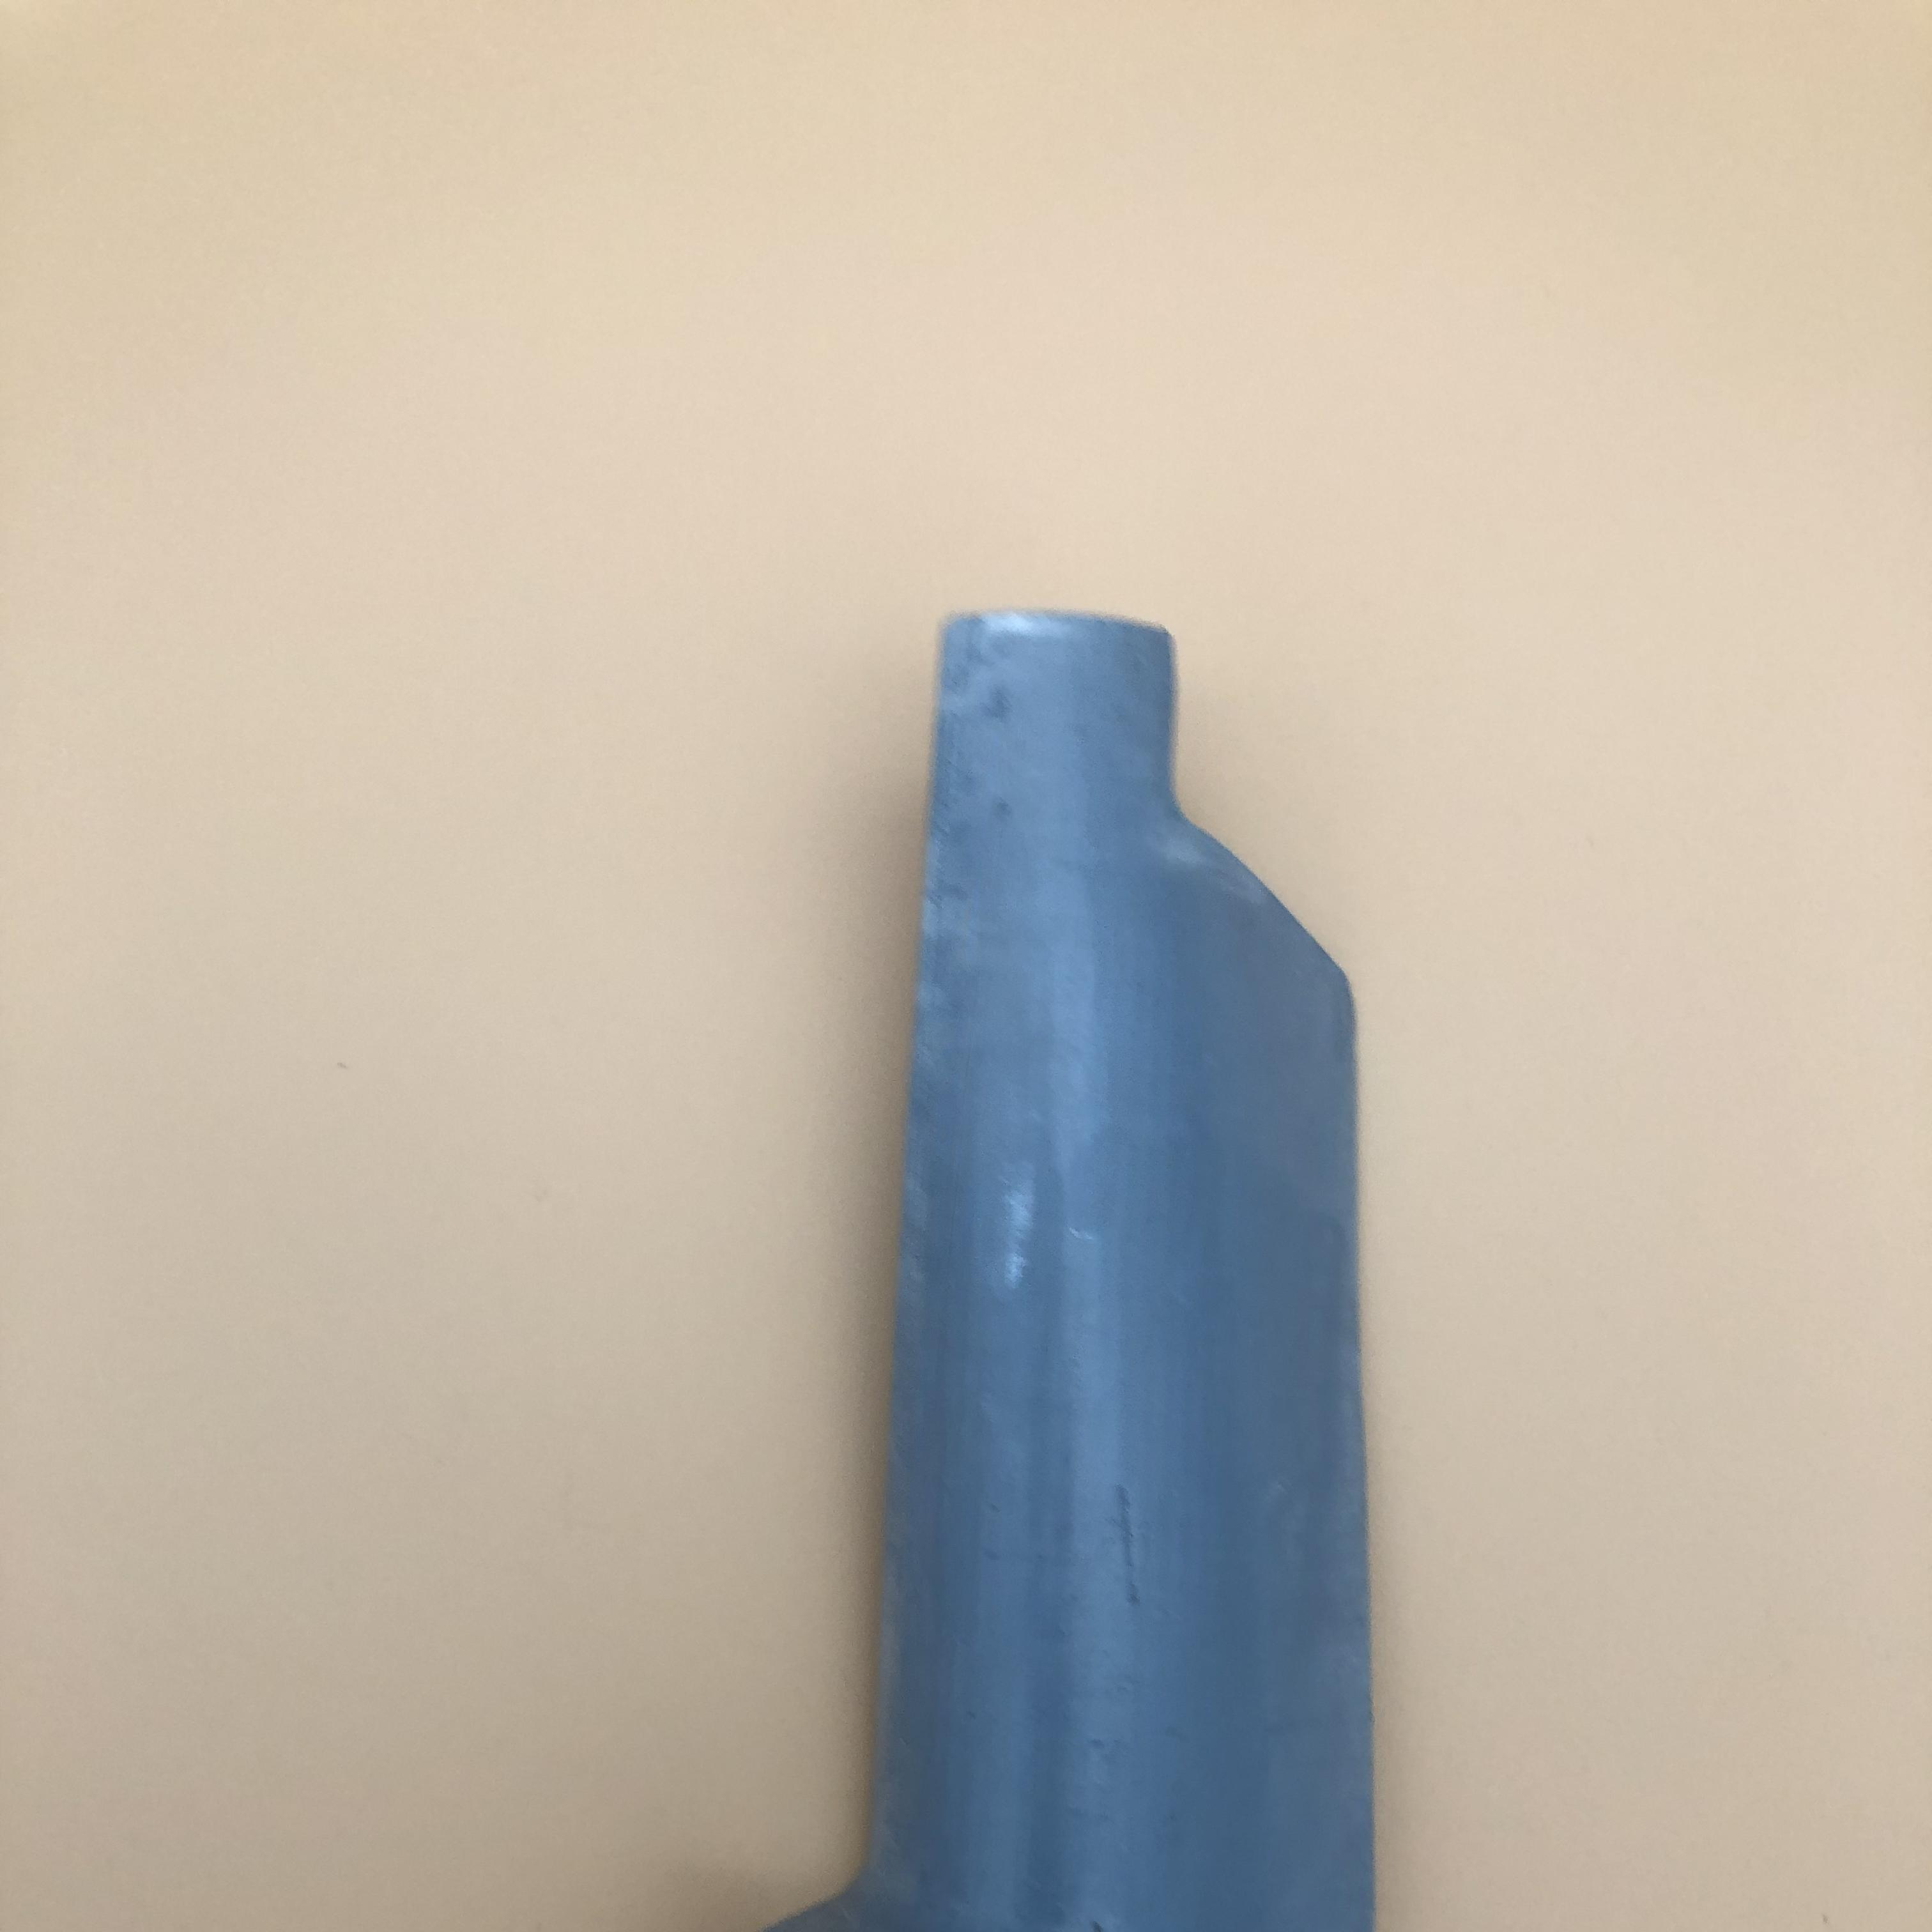fracture: (1146, 630, 1341, 987)
